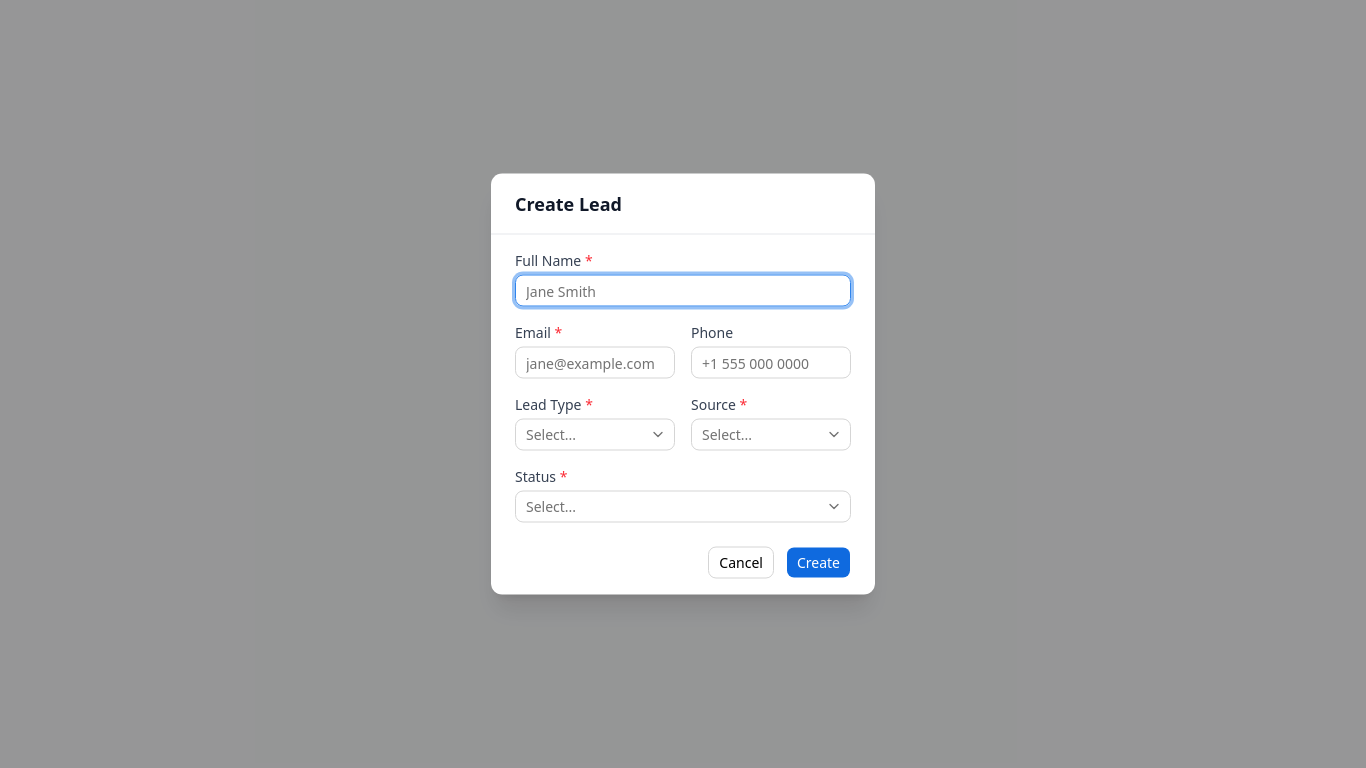
CreateLeadModal › shows "Valid email required" for malformed email
This screenshot has width=1366, height=768.
In the field labelled "Email *": (595, 362) [515, 346, 675, 378], type "not-an-email"
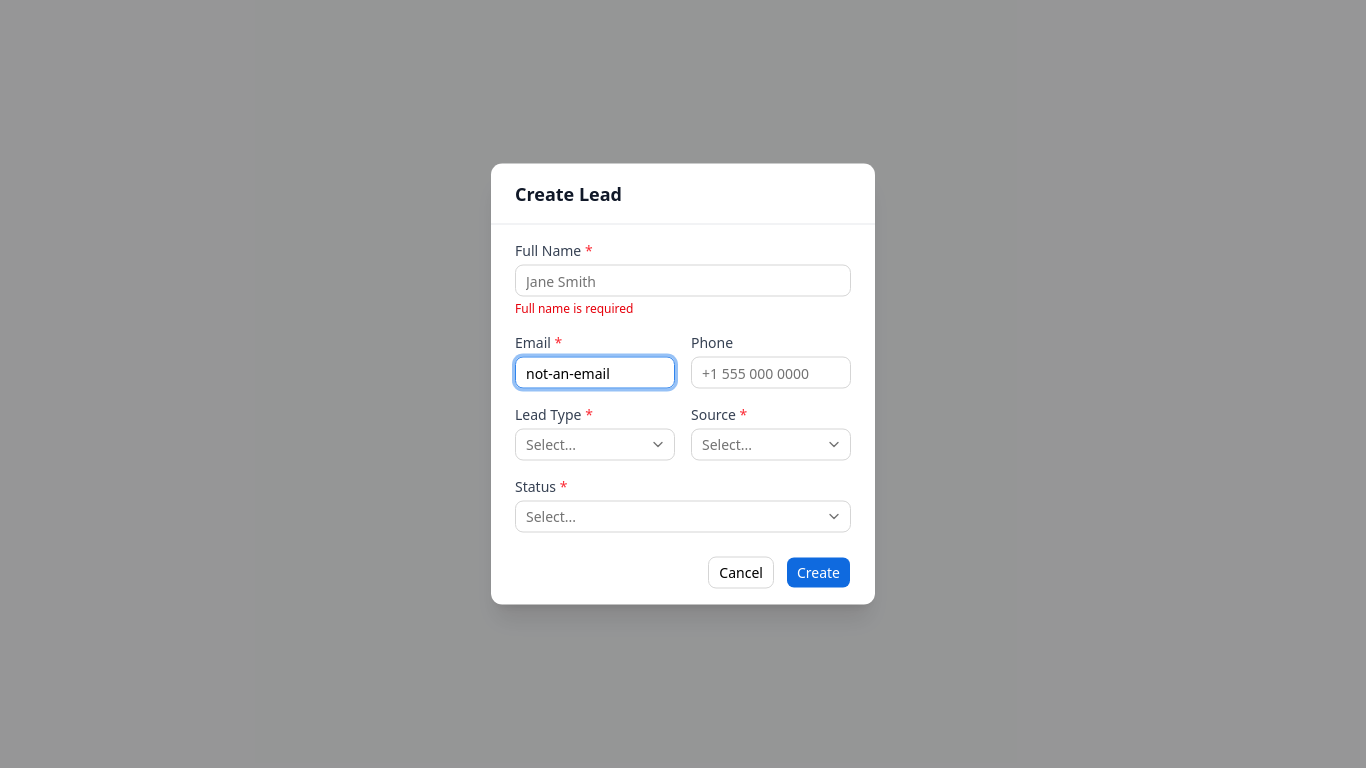
Press Tab
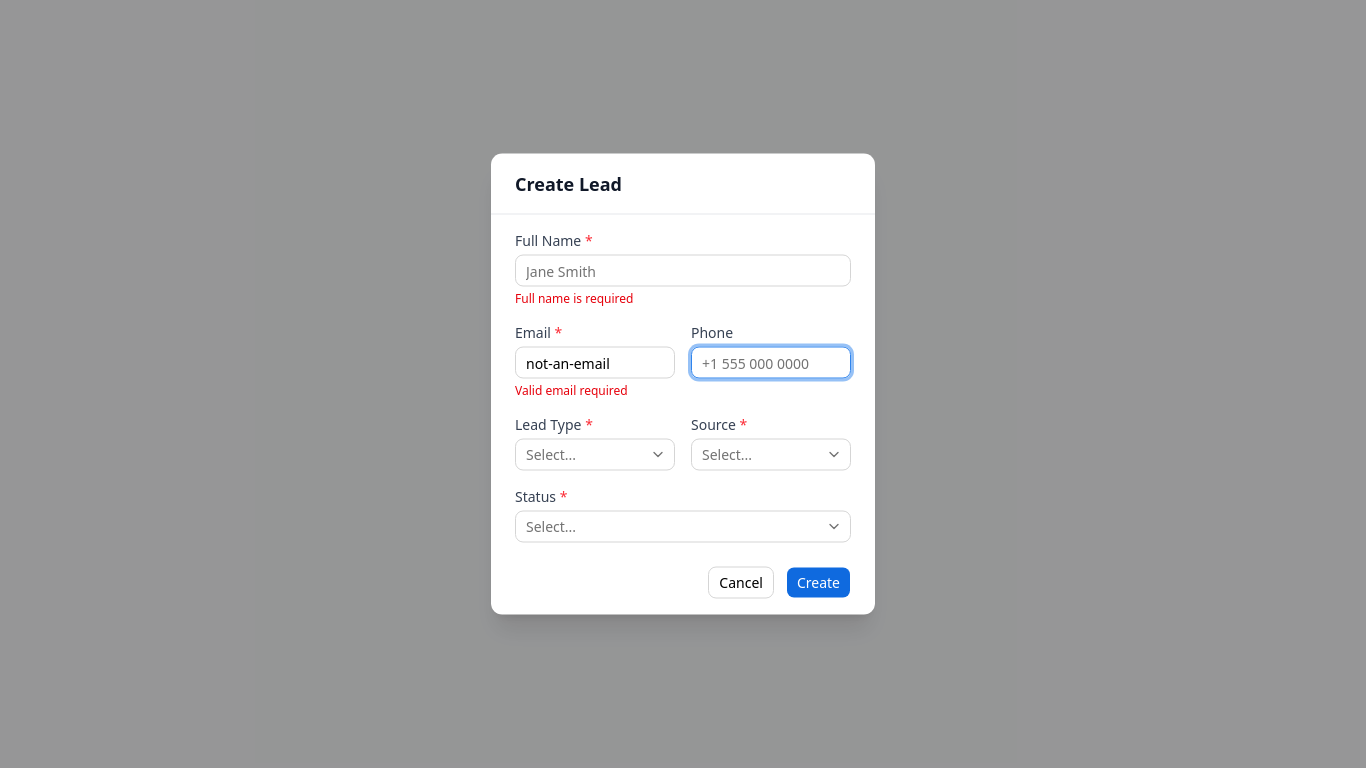
Now the text "Valid email required" is shown, box [515, 382, 628, 398]
